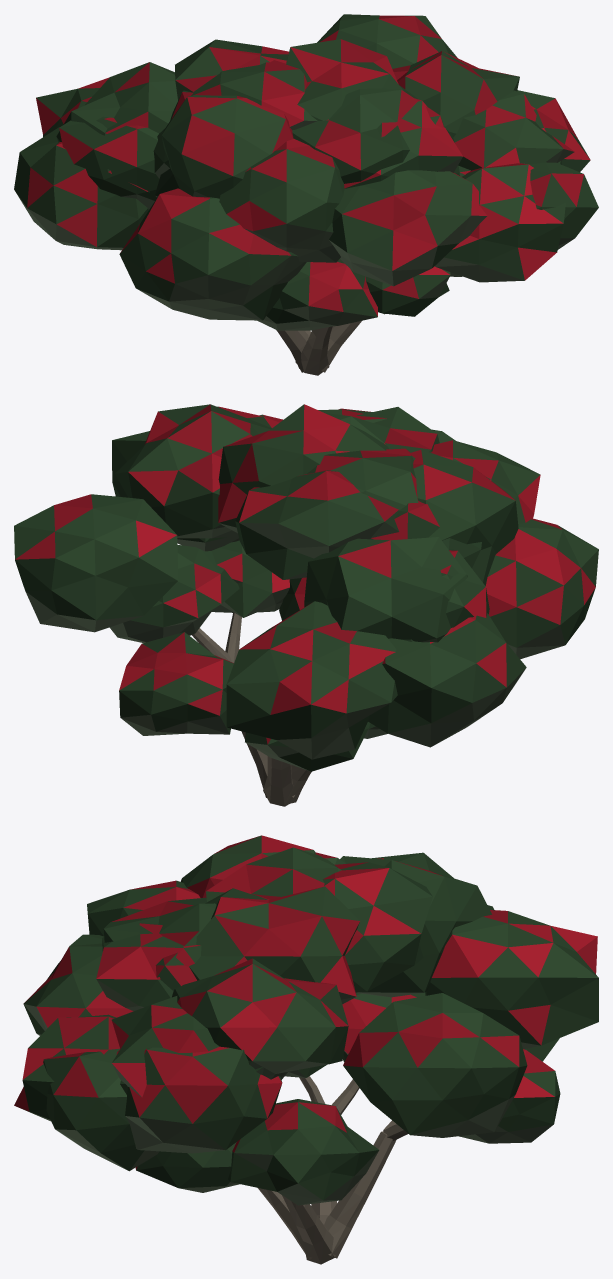
The model's file is pohutukawa-flowering.glb.
3 renders of one model, top to bottom at view 1: azimuth 30°, elevation 25°; view 2: azimuth 150°, elevation 25°; view 3: azimuth 270°, elevation 25°, orthographic. The views are drawn at different scales.
Visible parts, largest first — view 1: pohutukawa; view 2: pohutukawa; view 3: pohutukawa.
Part boxes in pixels (x1=…): pohutukawa: x1=14, y1=14, x2=598, y2=375; pohutukawa: x1=14, y1=404, x2=598, y2=806; pohutukawa: x1=14, y1=835, x2=598, y2=1264.
Bounding box in the file's own units: 20.69 × 14.3 × 20.95.
